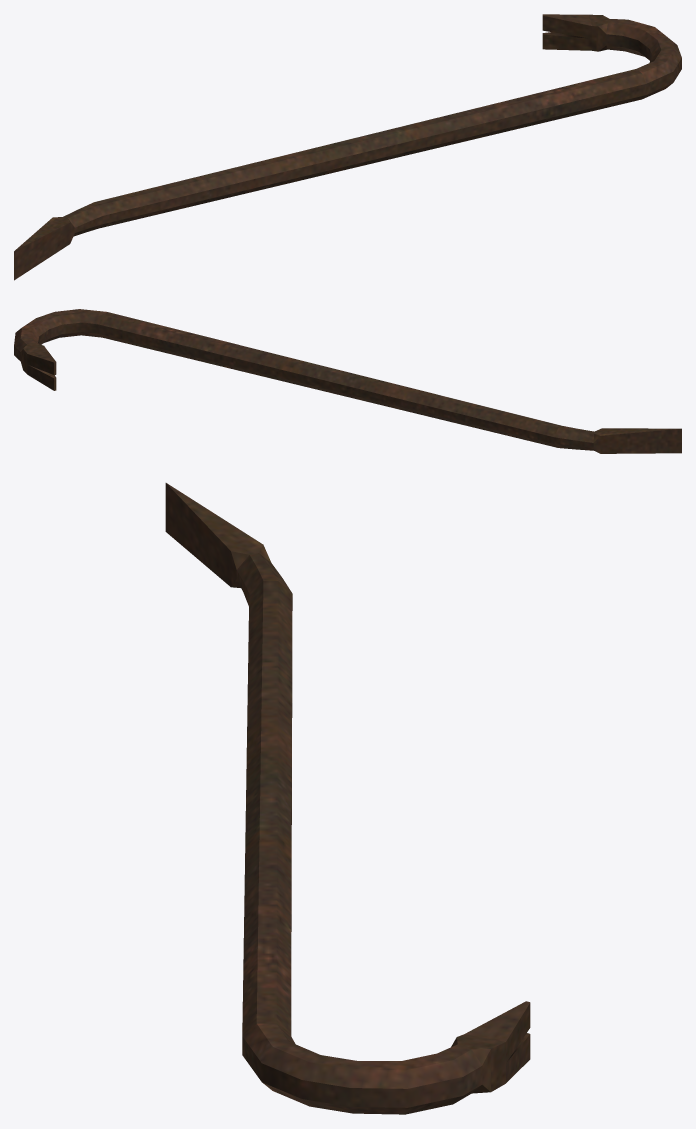
Rendered from rusty_crowbar_mx_1.obj.
3 renders of one model, top to bottom at view 1: azimuth 30°, elevation 25°; view 2: azimuth 150°, elevation 25°; view 3: azimuth 270°, elevation 25°, orthographic. The views are drawn at different scales.
Parts seen in each view (by area): view 1: rusty_crowbar_mx_1; view 2: rusty_crowbar_mx_1; view 3: rusty_crowbar_mx_1.
Boxes of the visible parts, x1,y1,x2,y2 form: rusty_crowbar_mx_1: (14, 14, 681, 280); rusty_crowbar_mx_1: (14, 309, 681, 453); rusty_crowbar_mx_1: (165, 483, 530, 1114).
Bounding box in the file's own units: 1 × 0.045 × 0.2615.
